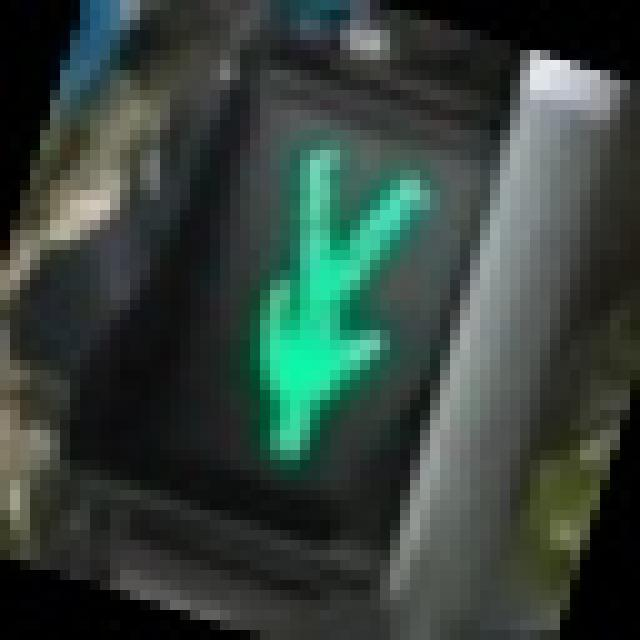geen-crossing: (120, 60, 500, 550)
